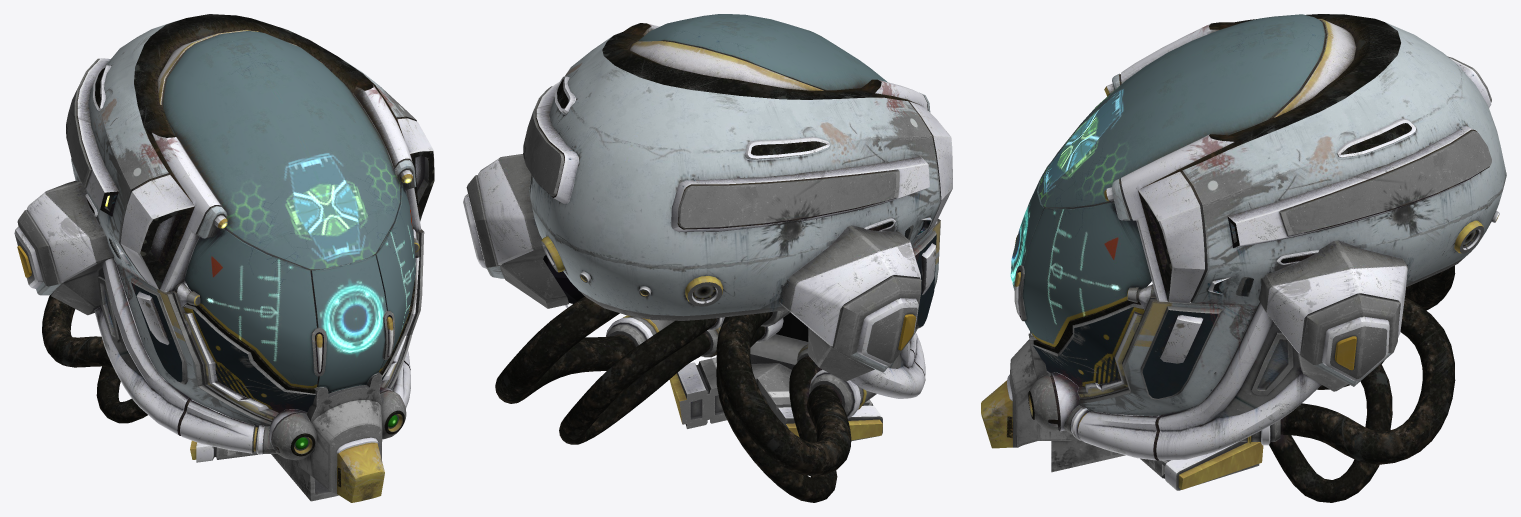
File: DamagedHelmet.gltf
The picture shows the model from 3 angles, left to right: view 1: azimuth 30°, elevation 25°; view 2: azimuth 150°, elevation 25°; view 3: azimuth 270°, elevation 25°; orthographic projection. The views are drawn at different scales.
Visible parts, largest first — view 1: node_damagedHelmet_-6514; view 2: node_damagedHelmet_-6514; view 3: node_damagedHelmet_-6514.
Boxes of the visible parts, x1=… form: node_damagedHelmet_-6514: x1=14, y1=14, x2=434, y2=502; node_damagedHelmet_-6514: x1=463, y1=14, x2=952, y2=502; node_damagedHelmet_-6514: x1=981, y1=14, x2=1506, y2=502.
Size of the model in its own units: 1.89 by 1.8 by 2.
1 material, 1 textured.
